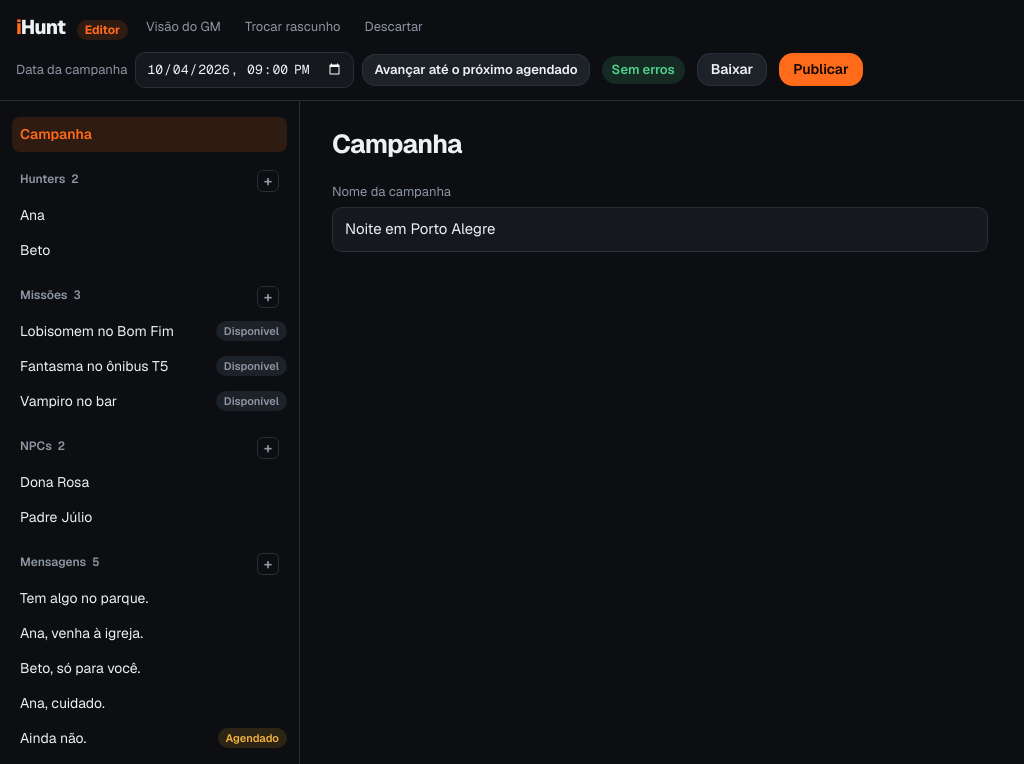
Test: Replacing the Rascunho › keeps the draft when the GM cancels
Replace the text in the field labelled "Nome da campanha" with "Noite em Pelotas". click: (660, 229)
box: left=332, top=207, right=988, bottom=252
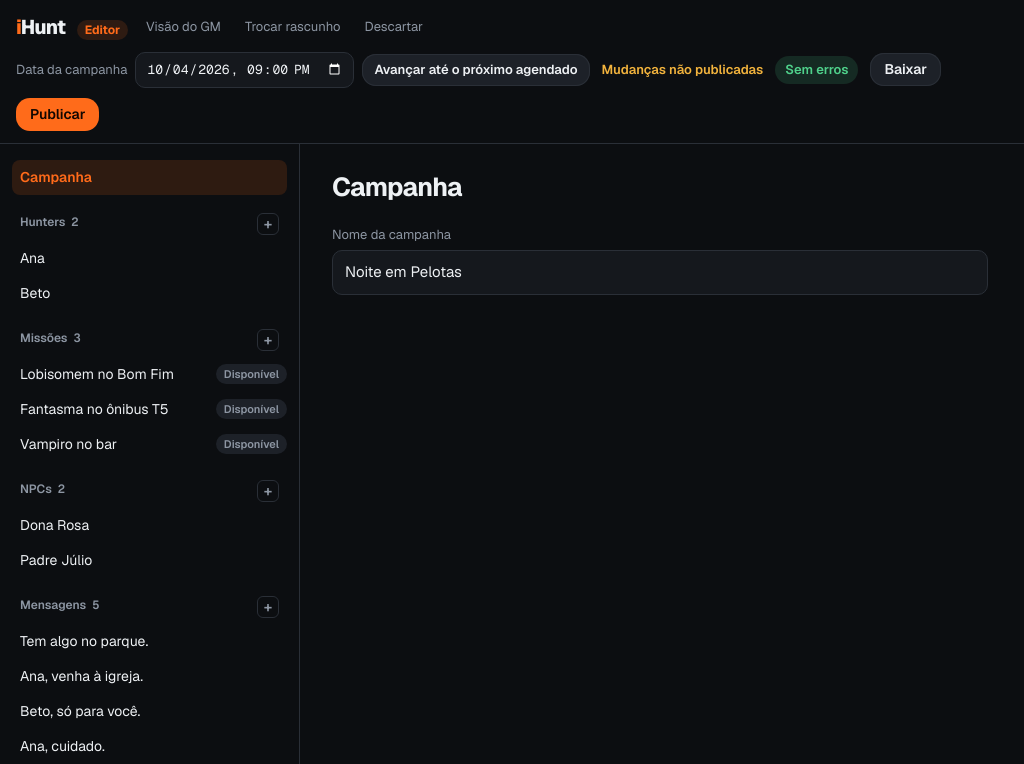
Click the button "Trocar rascunho". click: (293, 27)
box: left=239, top=13, right=346, bottom=41
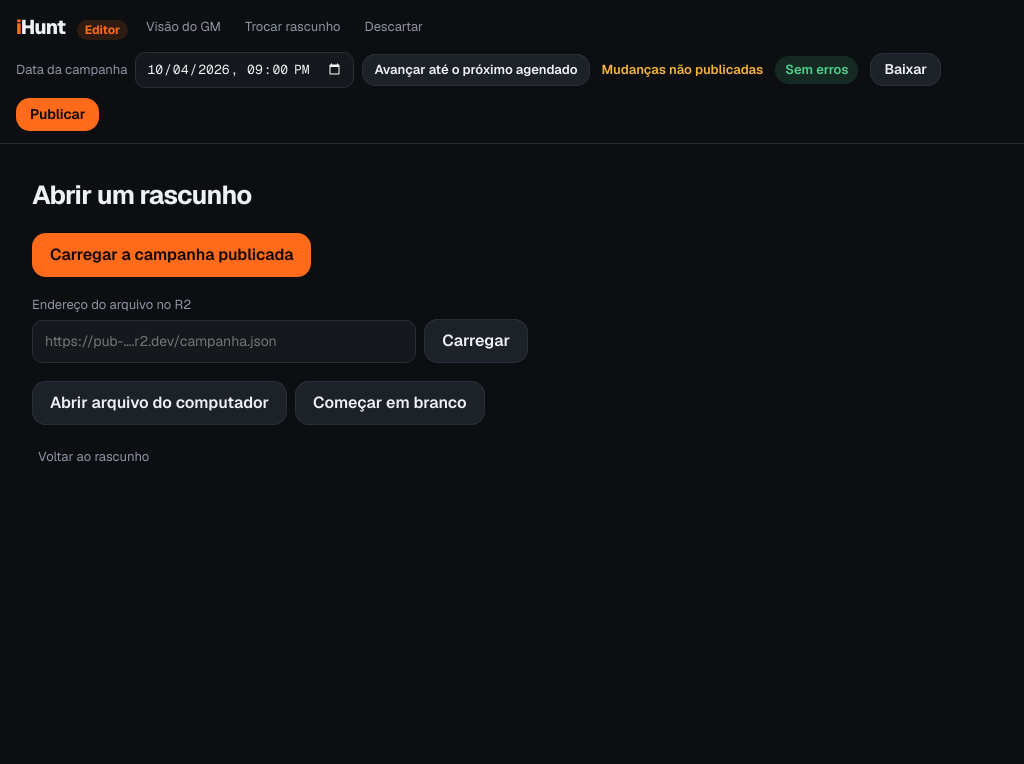
Click the button "Começar em branco". click: (390, 403)
box: left=295, top=381, right=485, bottom=425
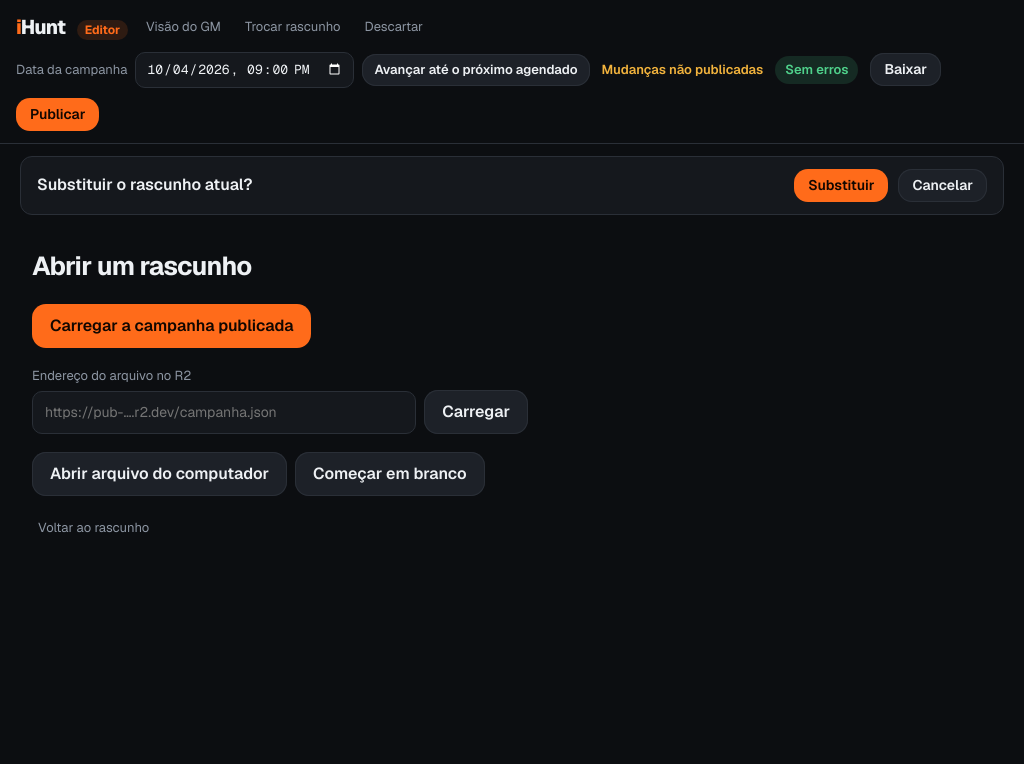
Click the button "Cancelar". click: (943, 185)
box: left=898, top=168, right=987, bottom=202
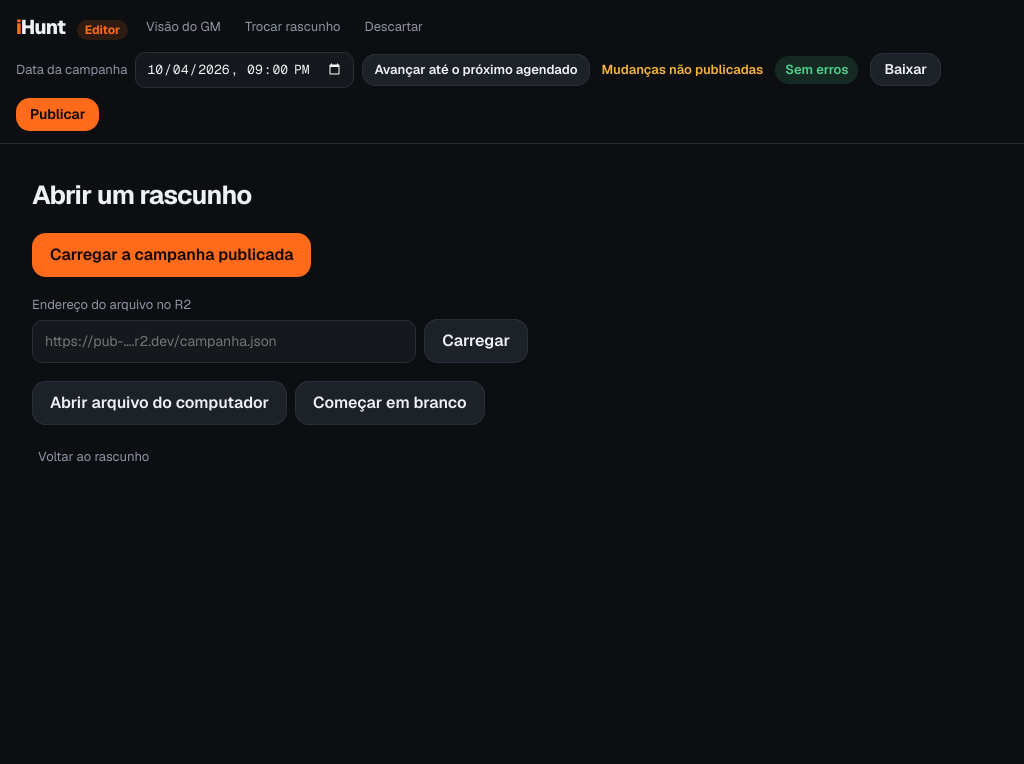
Click the button "Voltar ao rascunho". click: (94, 457)
box: left=32, top=443, right=155, bottom=470
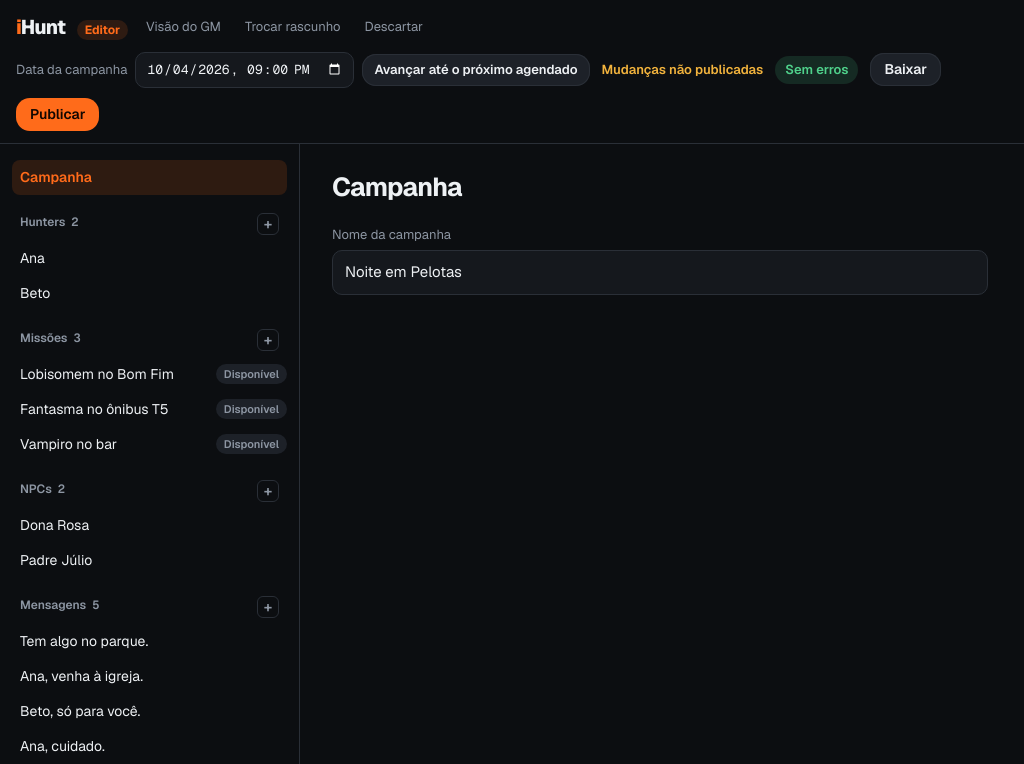
Expected: the field labelled "Nome da campanha" holds "Noite em Pelotas", left=332, top=250, right=988, bottom=294
